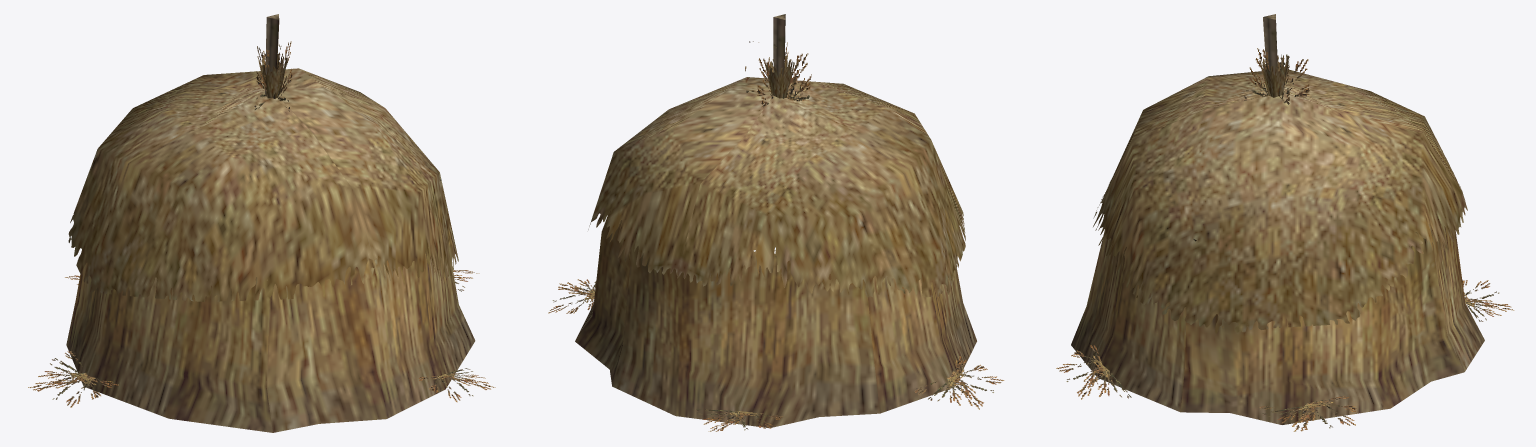
Rendered from haystack.glb.
3 views of the same model, side by side, from view 1: azimuth 30°, elevation 25°; view 2: azimuth 150°, elevation 25°; view 3: azimuth 270°, elevation 25° (orthographic). The views are drawn at different scales.
Parts seen in each view (by area): view 1: haystack; view 2: haystack; view 3: haystack.
Part boxes in pixels (<box>): haystack: <box>28,14,495,432</box>; haystack: <box>548,14,1004,431</box>; haystack: <box>1056,14,1514,431</box>.
Bounding box in the file's own units: 5.18 × 3.68 × 4.87.
3 materials, 3 textured.
